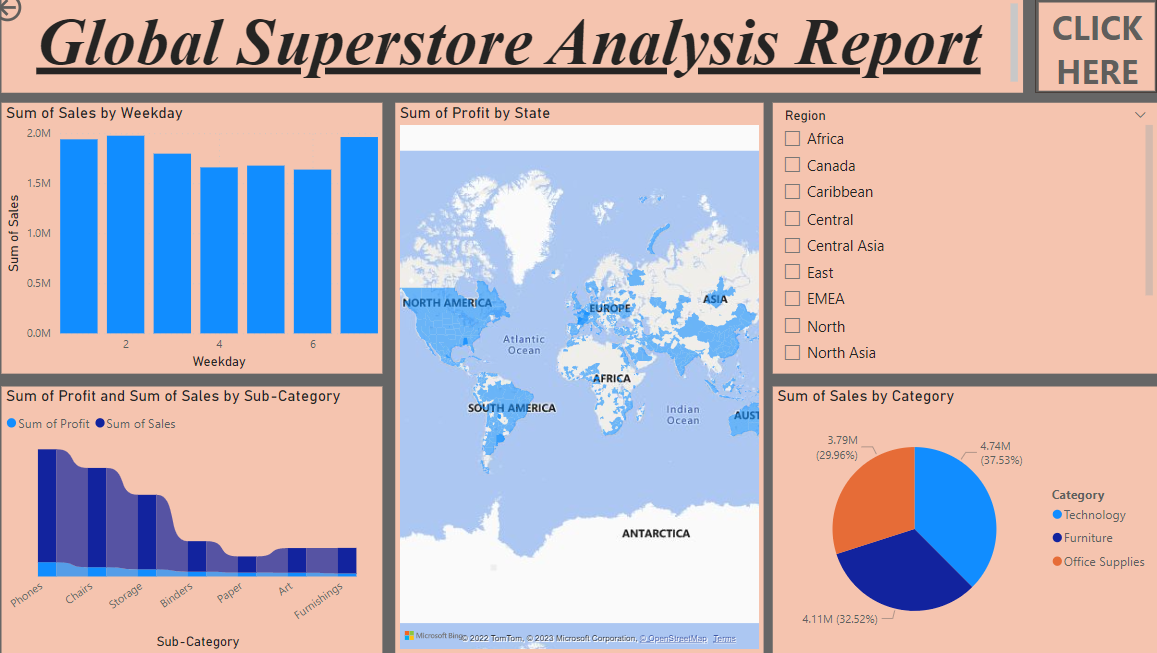

The page's visual inventory and layout, read from the dashboard file:
{"tool":"powerbi","page":{"name":"Page 1","canvas":[1280,720],"ordinal":0},"visuals":[{"type":"columnChart","fields":{"Category":["Orders.Weekday"],"Y":["Sum(Orders.Sales)"]},"box":[13.6,123.7,413.2,293.6],"z":0},{"type":"textbox","box":[13.5,10.8,1106.9,101.6],"z":1000},{"type":"ribbonChart","fields":{"Category":["Orders.Sub-Category"],"Y":["Sum(Orders.Profit)","Sum(Orders.Sales)"]},"box":[13.6,430.8,413.2,289.5],"z":2000},{"type":"actionButton","box":[0,0,100,40],"z":3000},{"type":"filledMap","fields":{"Category":["Orders.State"]},"box":[440.5,123.5,399.3,596.9],"z":4000},{"type":"pieChart","fields":{"Category":["Orders.Category"],"Y":["Sum(Orders.Sales)"]},"box":[849.5,430.8,417.3,289.9],"z":5000},{"type":"slicer","fields":{"Values":["Orders.Region"]},"box":[849.4,123.7,417.2,293.6],"z":6000},{"type":"actionButton","box":[1134,10.8,132.8,101.6],"z":7000}]}

Visuals, with their boxes in screenshot pixels (x1, y1, x2, y2), scaled from the page's 1280x720 canvas onto the 1157x653 screenshot:
columnChart - Orders.Weekday x Sum(Orders.Sales): [x1=12, y1=112, x2=386, y2=378]
textbox: [x1=12, y1=10, x2=1013, y2=102]
ribbonChart - Orders.Sub-Category x Sum(Orders.Profit): [x1=12, y1=391, x2=386, y2=652]
actionButton: [x1=0, y1=0, x2=90, y2=36]
filledMap - Orders.State: [x1=398, y1=112, x2=759, y2=652]
pieChart - Orders.Category x Sum(Orders.Sales): [x1=768, y1=391, x2=1145, y2=652]
slicer - Orders.Region: [x1=768, y1=112, x2=1145, y2=378]
actionButton: [x1=1025, y1=10, x2=1145, y2=102]
